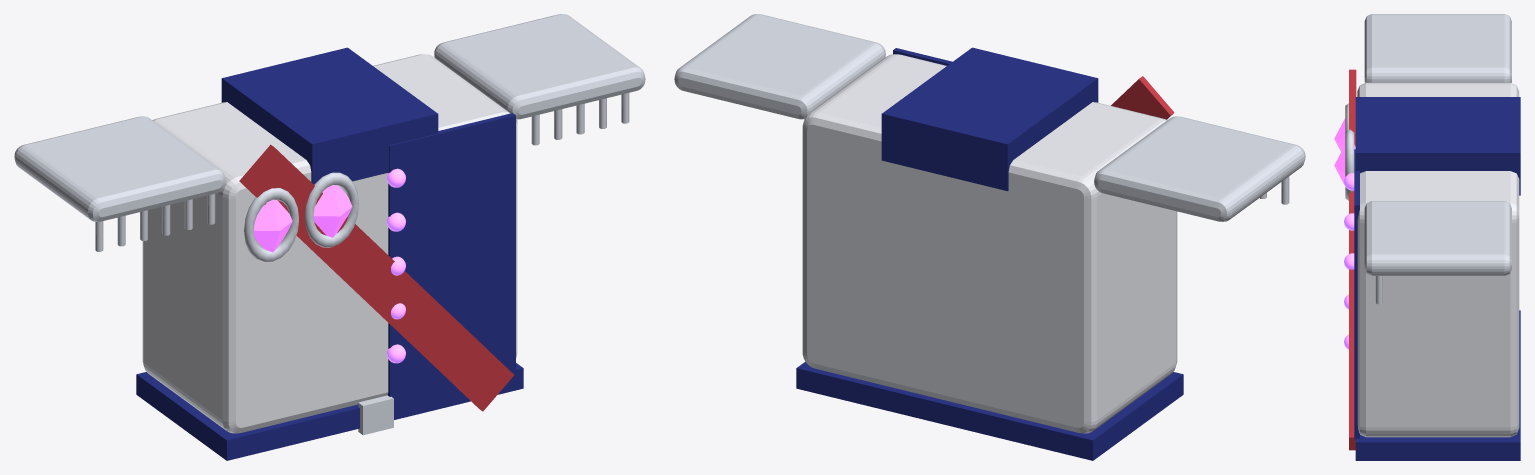
Rendered from eqf_eqen2.glb.
The picture shows the model from 3 angles, left to right: view 1: azimuth 30°, elevation 25°; view 2: azimuth 150°, elevation 25°; view 3: azimuth 270°, elevation 25°; orthographic projection. The views are drawn at different scales.
Bounding box in the file's own units: 3.98 × 2.15 × 1.27.
